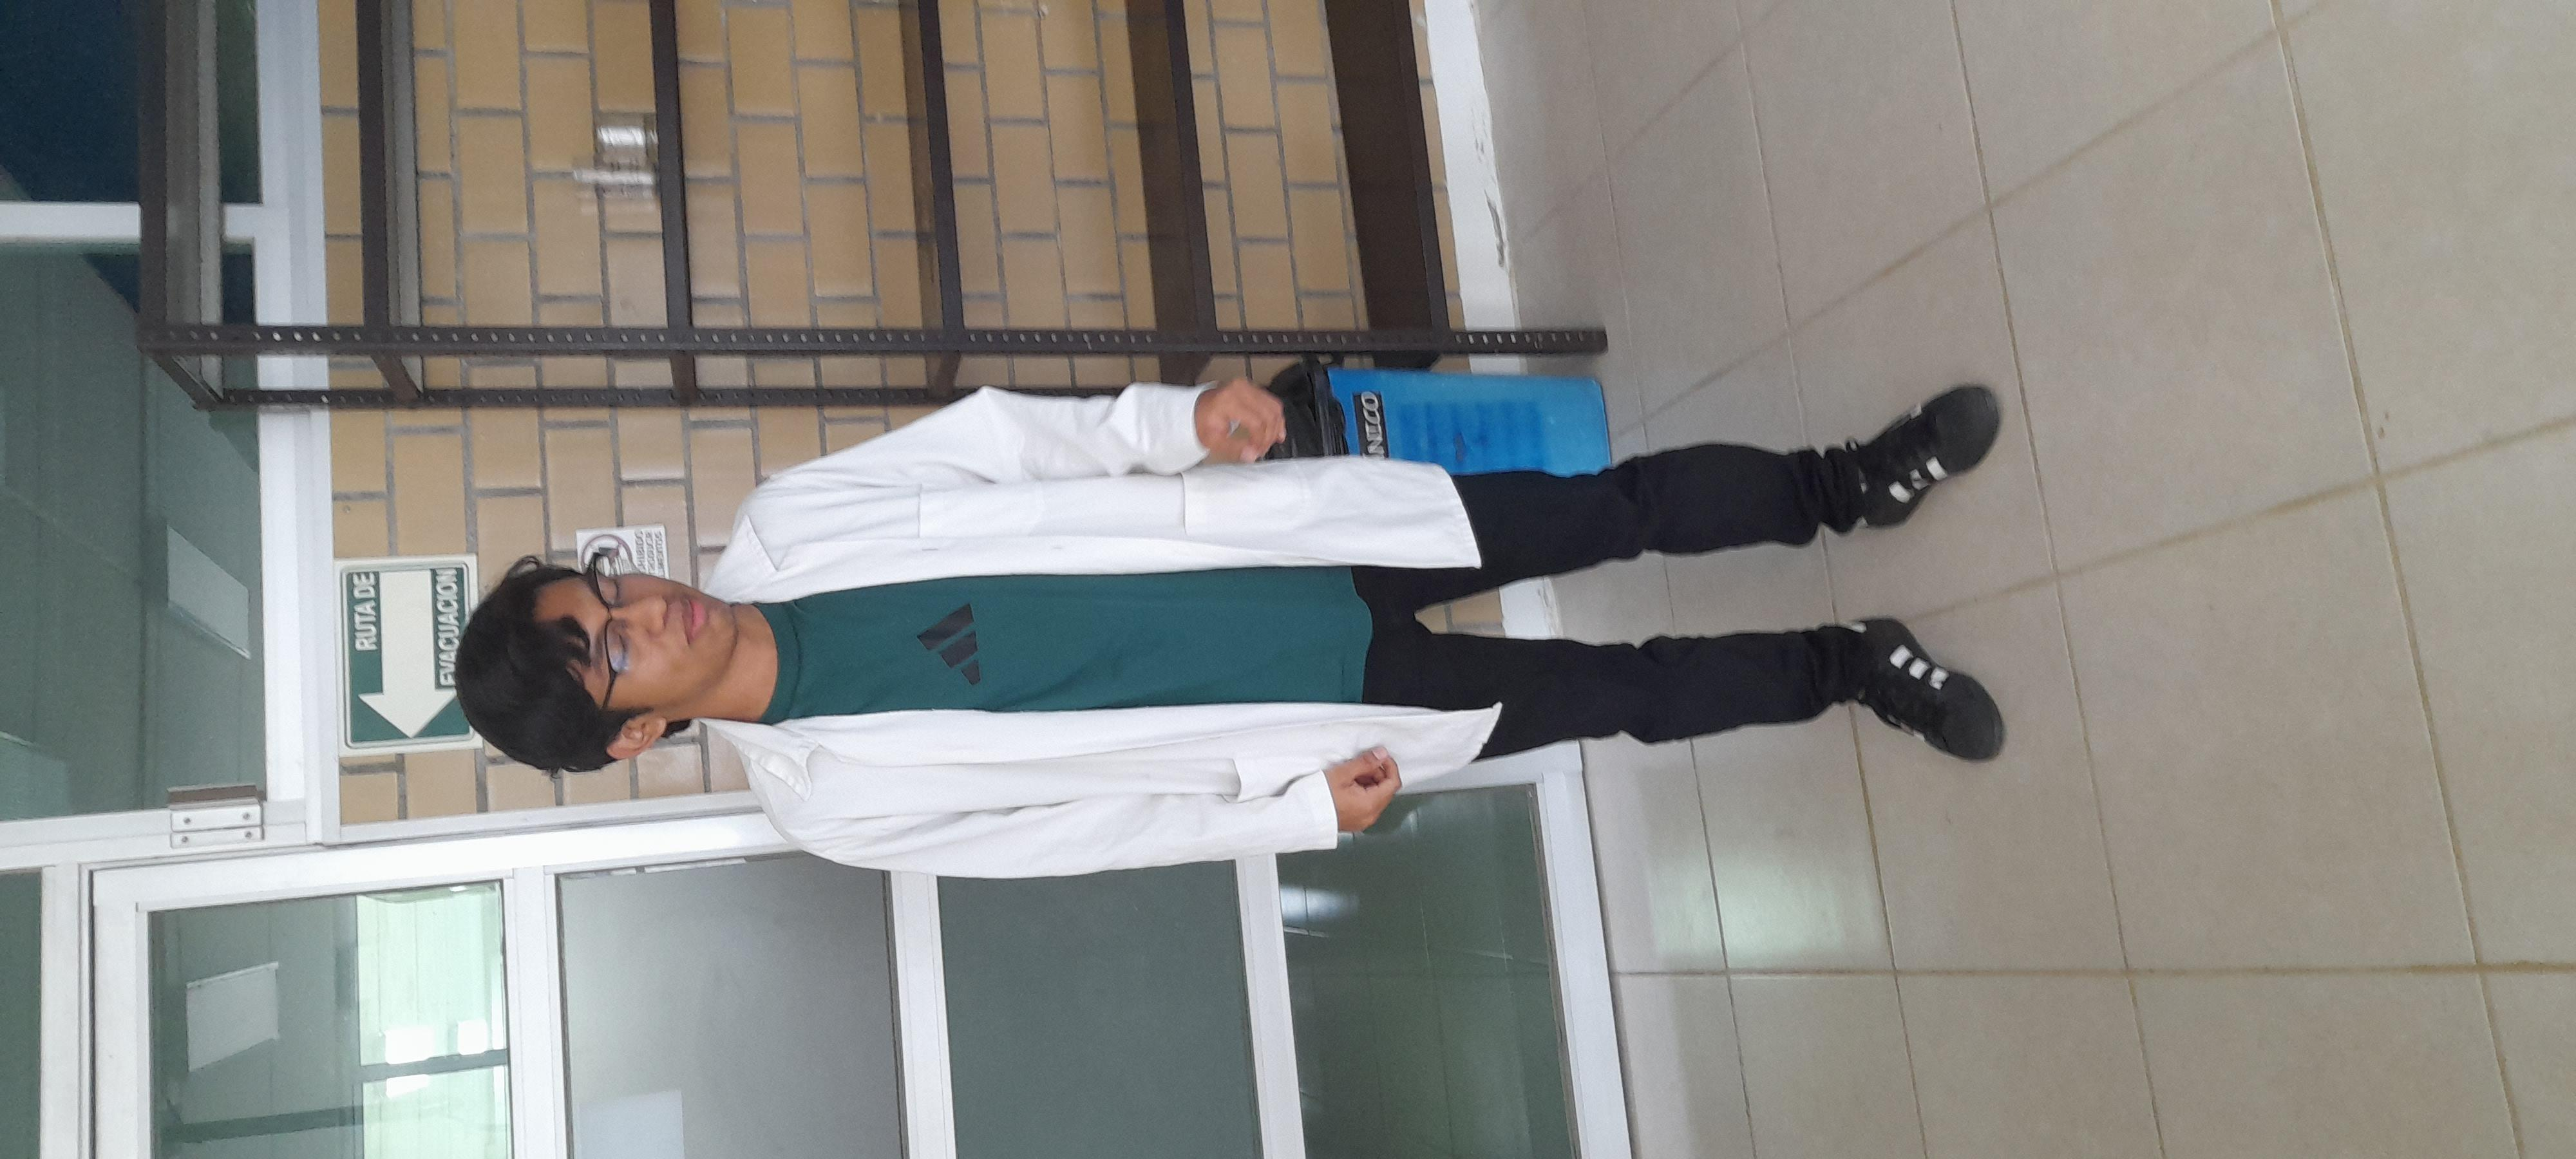Bata-Incorrecta: (429, 189, 2017, 936)
